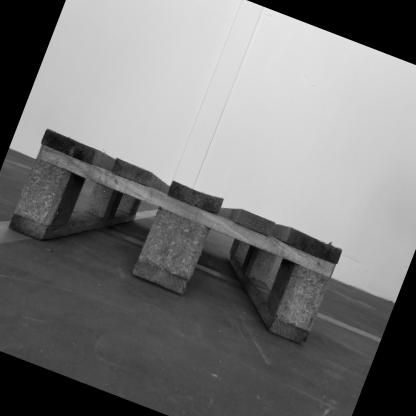BoxFace: (1, 118, 348, 346)
